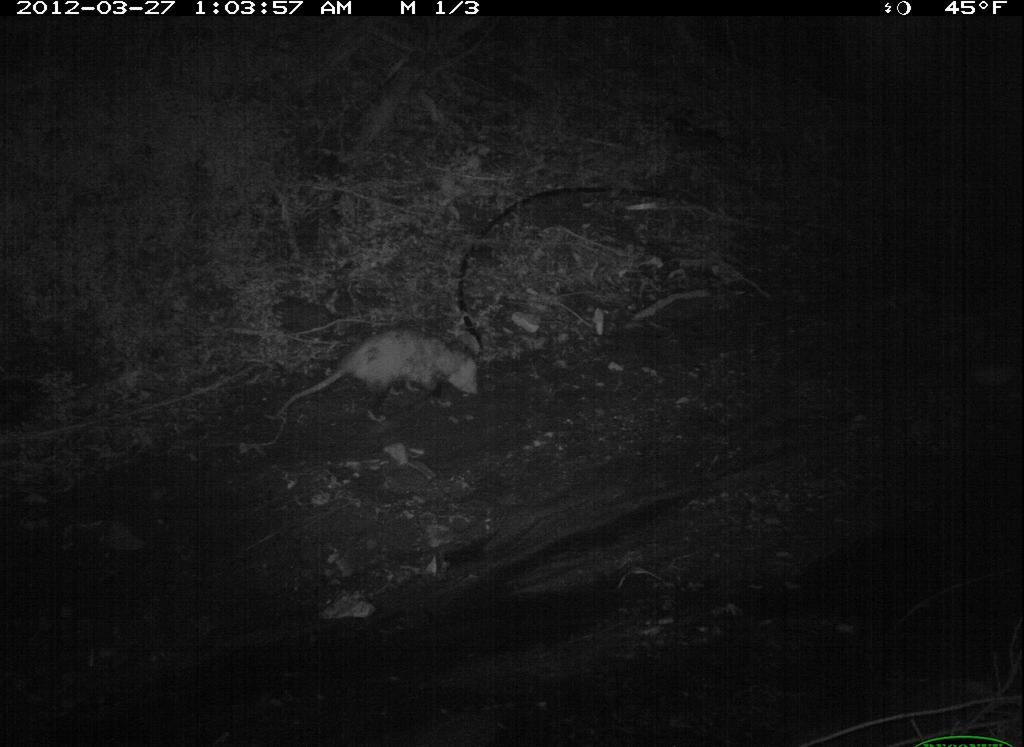opossum: (273, 322, 486, 434)
